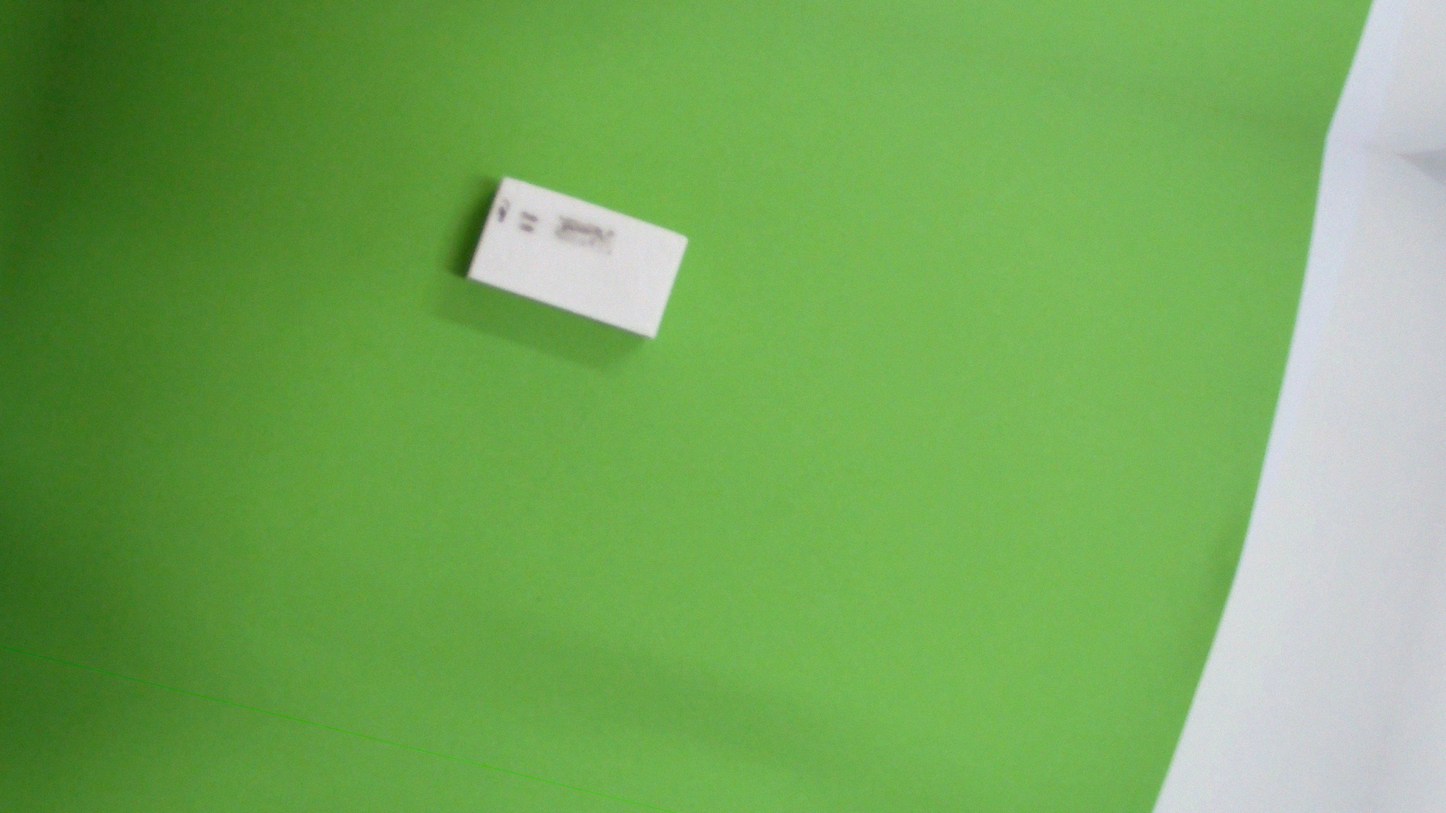gom: (457, 160, 696, 352)
